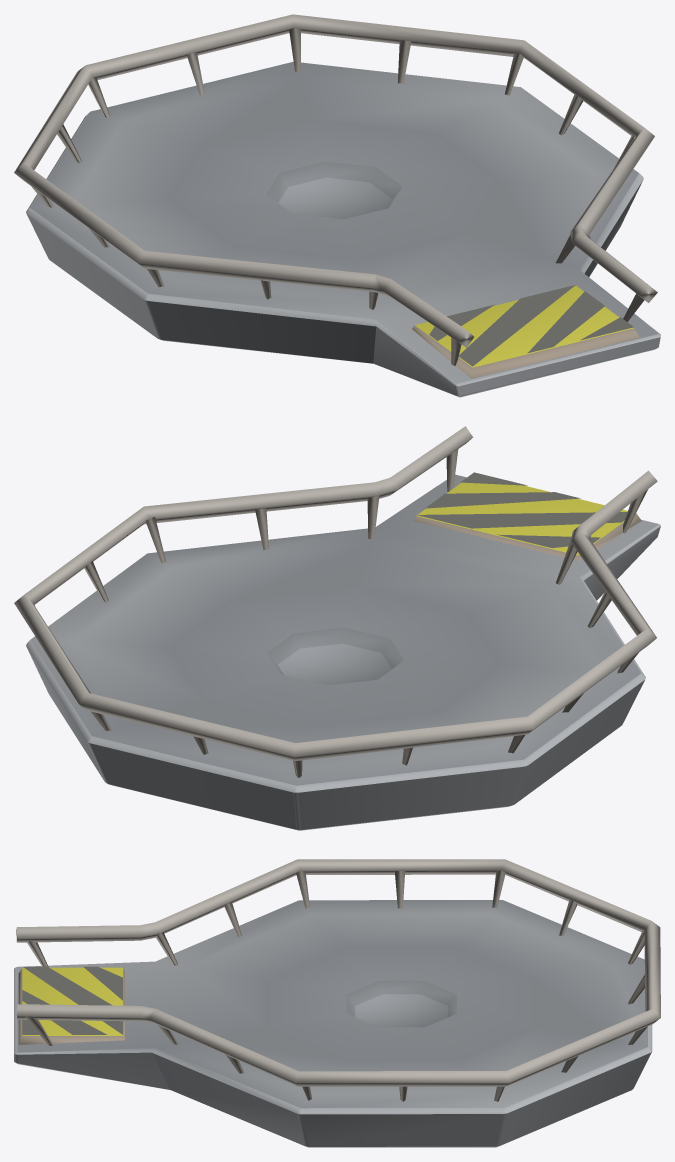
Rendered from LighthouseBalcony.glb.
The picture shows the model from 3 angles, top to bottom: view 1: azimuth 30°, elevation 25°; view 2: azimuth 150°, elevation 25°; view 3: azimuth 270°, elevation 25°; orthographic projection. The views are drawn at different scales.
Parts seen in each view (by area): view 1: LighthouseBalcony; view 2: LighthouseBalcony; view 3: LighthouseBalcony.
Part boxes in pixels (left/top/right/bottom): LighthouseBalcony: left=14, top=14, right=660, bottom=397; LighthouseBalcony: left=14, top=426, right=660, bottom=830; LighthouseBalcony: left=14, top=859, right=660, bottom=1147.
Size of the model in its own units: 4.88 by 0.9049 by 6.09.
